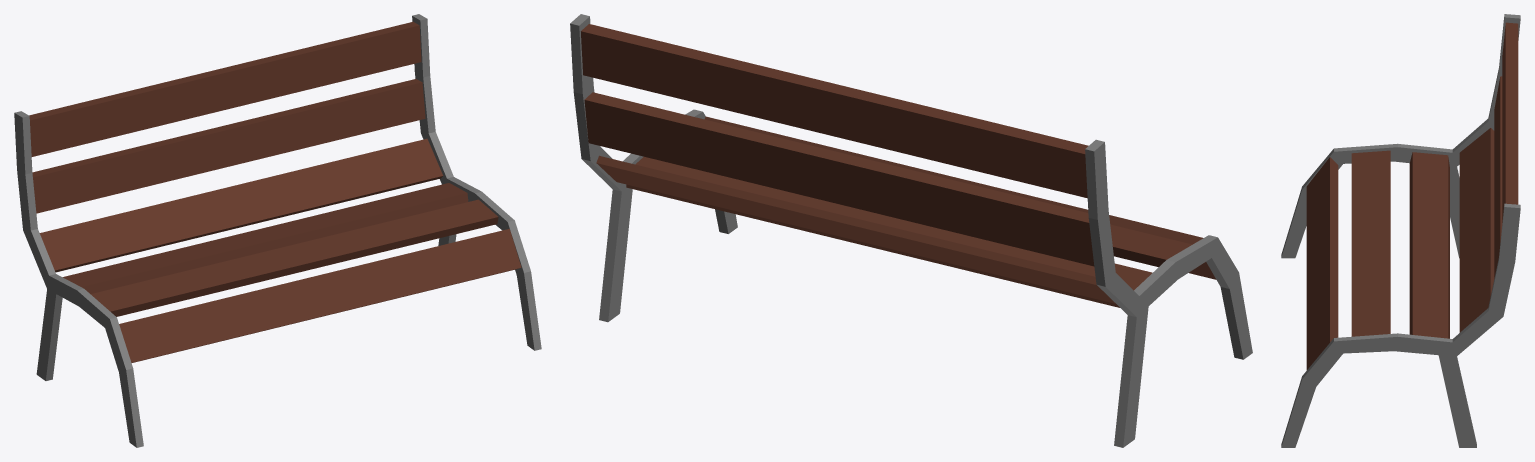
The model's file is bench.fbx.
3 views of the same model, side by side, from view 1: azimuth 30°, elevation 25°; view 2: azimuth 150°, elevation 25°; view 3: azimuth 270°, elevation 25° (orthographic). The views are drawn at different scales.
Parts seen in each view (by area): view 1: Cube; view 2: Cube; view 3: Cube.
Part boxes in pixels (x1,y1,x2,y2): Cube: (14,14,541,447); Cube: (570,14,1252,447); Cube: (1281,14,1520,447).
Size of the model in its own units: 375 by 218 by 196.
